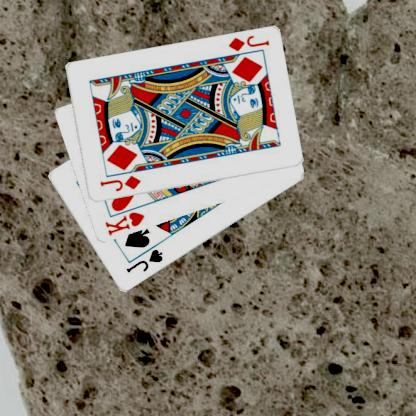JD: (97, 173, 142, 193), (225, 33, 270, 53)
JS: (123, 246, 164, 275)
KH: (102, 209, 146, 238)
